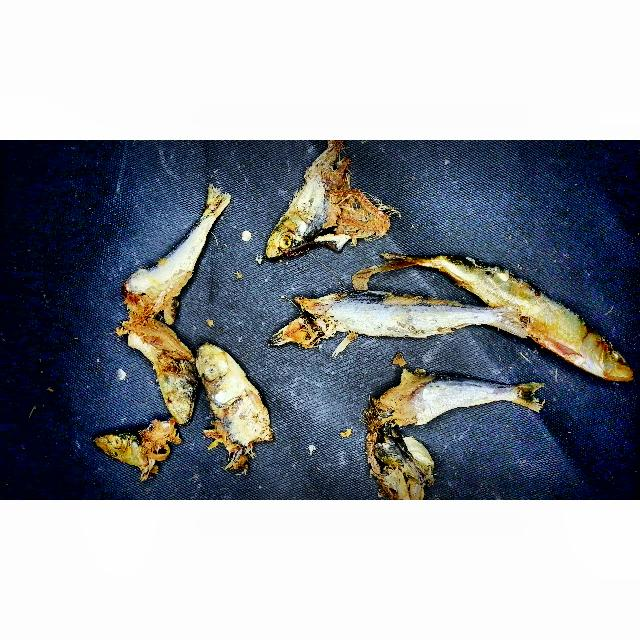Rejected_Body: (439, 251, 583, 357), (295, 289, 471, 347), (366, 369, 507, 429)
Rejected_Head: (264, 149, 373, 265), (191, 340, 274, 467), (123, 317, 199, 424), (89, 410, 179, 483), (564, 330, 634, 386)
Rejected_Tail: (182, 179, 240, 229), (368, 246, 436, 284), (498, 374, 556, 417), (464, 304, 527, 341)
